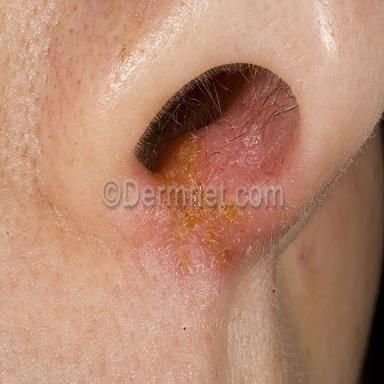Impetigo: (147, 207, 251, 276), (156, 137, 205, 187)
